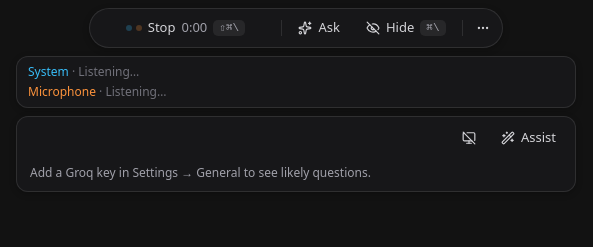
HUDContainer › a failed stop stays live and shows the stop message
Click the button with aria-label "Stop listening": coordinates (186, 28) [94,12,278,44]
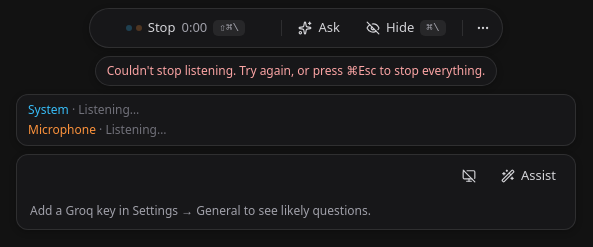
Now the message shows "Couldn't stop listening", box [107,62,485,79]
